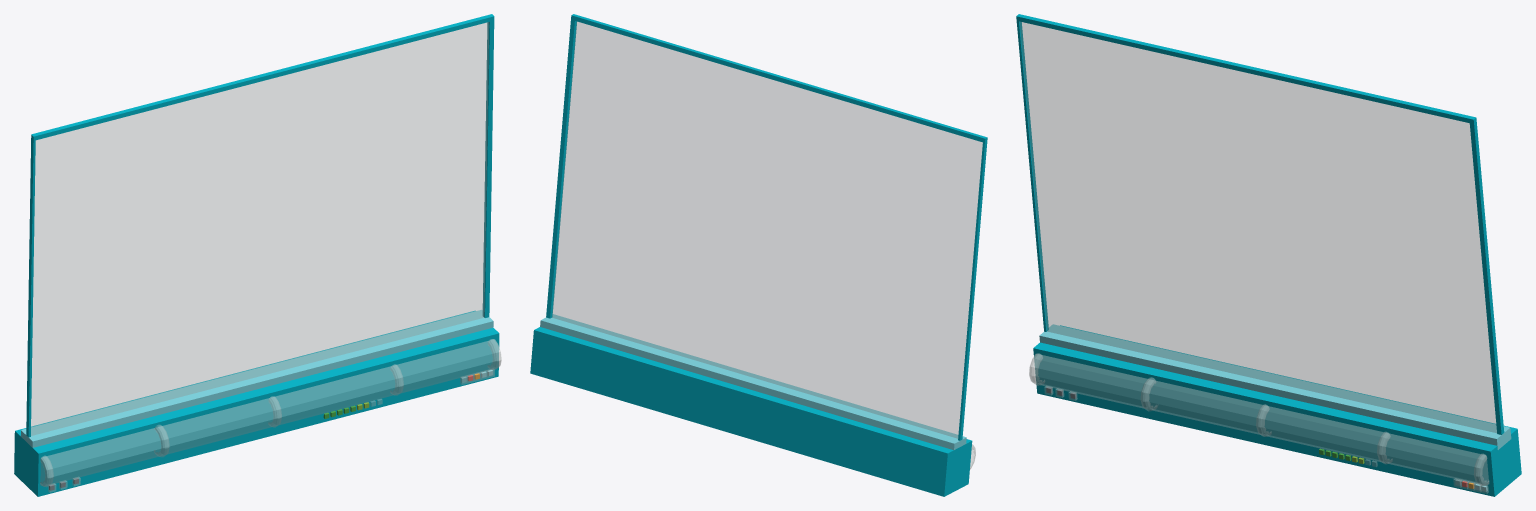
The model's file is Board.glb.
The picture shows the model from 3 angles, left to right: view 1: azimuth 30°, elevation 25°; view 2: azimuth 150°, elevation 25°; view 3: azimuth 330°, elevation 25°; orthographic projection. The views are drawn at different scales.
Parts seen in each view (by area): view 1: Buffer Layer (×3); view 2: Buffer Layer (×3); view 3: Buffer Layer (×3).
Boxes of the visible parts, box(x1,y1,x2,y2) form: Buffer Layer (×3): box(14, 14, 501, 496); Buffer Layer (×3): box(530, 14, 987, 496); Buffer Layer (×3): box(1016, 14, 1521, 496).
Size of the model in its own units: 0.7279 by 0.5755 by 0.1153.
